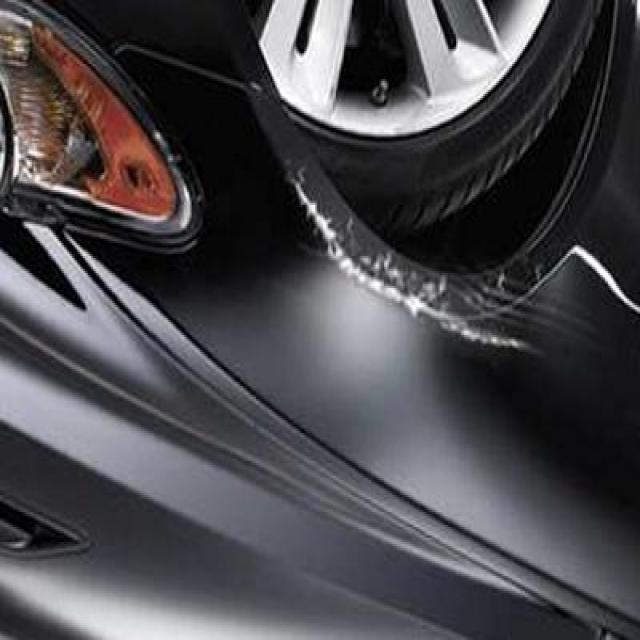scratch: (262, 154, 562, 388)
